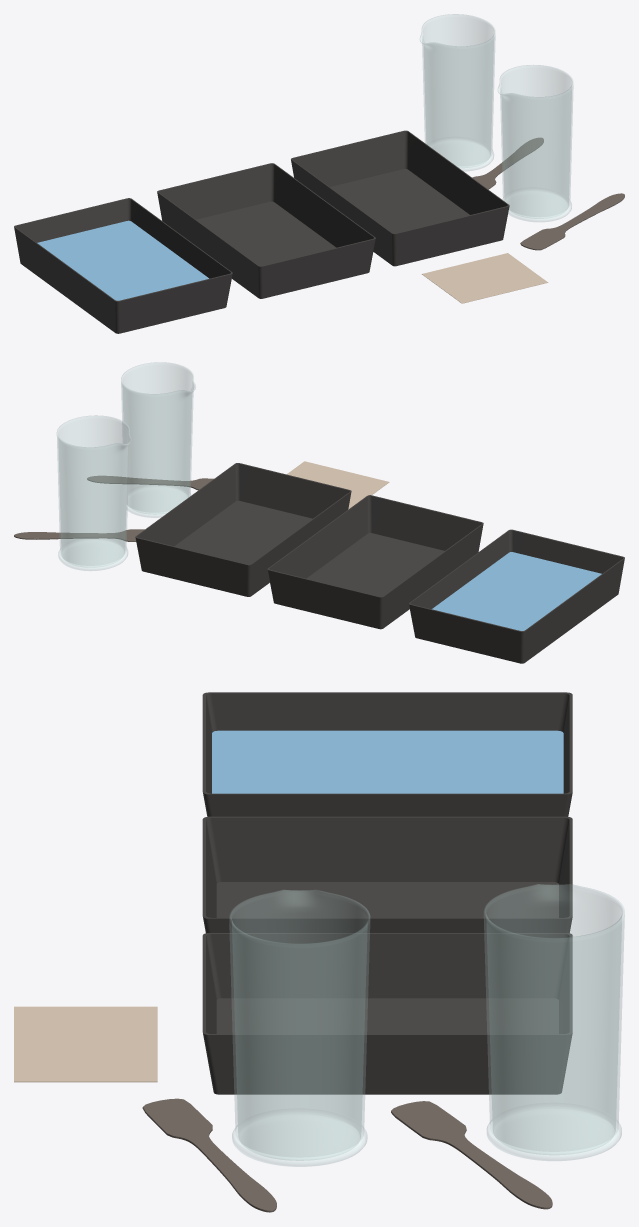
The model's file is demoanim_step06.glb.
3 views of the same model, one above another, from view 1: azimuth 30°, elevation 25°; view 2: azimuth 150°, elevation 25°; view 3: azimuth 270°, elevation 25° (orthographic). The views are drawn at different scales.
Parts seen in each view (by area): view 1: tray.005, tray.003, tray.006, graduatedCylinder.004, graduatedCylinder.006, water, paper1, woodenSpoon.003, woodenSpoon.005; view 2: tray.005, tray.003, tray.006, graduatedCylinder.006, graduatedCylinder.004, water, paper1, woodenSpoon.005, woodenSpoon.003; view 3: tray.003, tray.005, graduatedCylinder.004, graduatedCylinder.006, tray.006, water, paper1, woodenSpoon.005, woodenSpoon.003.
Part boxes in pixels (x1,y1,x2,y2): tray.005: (157,163,375,298); tray.003: (291,130,509,266); tray.006: (14,198,232,333); graduatedCylinder.004: (498,65,573,221); graduatedCylinder.006: (420,14,495,171); water: (37,220,208,300); paper1: (422,253,548,303); woodenSpoon.003: (520,193,624,250); woodenSpoon.005: (472,137,543,189); tray.005: (267,495,483,629); tray.003: (135,463,351,596); tray.006: (409,529,624,663); graduatedCylinder.006: (57,415,131,570); graduatedCylinder.004: (121,362,195,517); water: (432,552,601,630); paper1: (287,461,389,509); woodenSpoon.005: (14,529,144,541); woodenSpoon.003: (87,475,213,490); tray.003: (202,933,572,1094); tray.005: (202,816,572,933); graduatedCylinder.004: (229,890,369,1166); graduatedCylinder.006: (484,884,624,1160); tray.006: (202,692,572,816); water: (212,730,563,793); paper1: (14,1006,157,1082); woodenSpoon.005: (391,1101,552,1209); woodenSpoon.003: (142,1098,276,1212).
Bounding box in the file's own units: 44.07 × 10.17 × 24.88.
